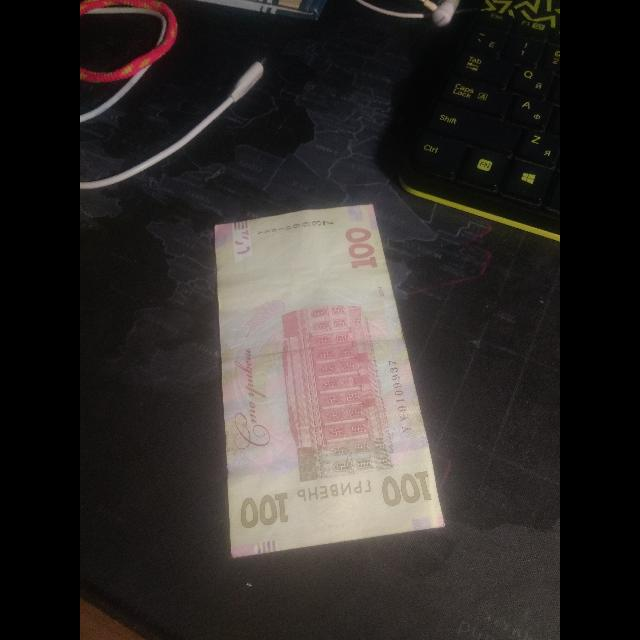100uah: (213, 204, 443, 558)
